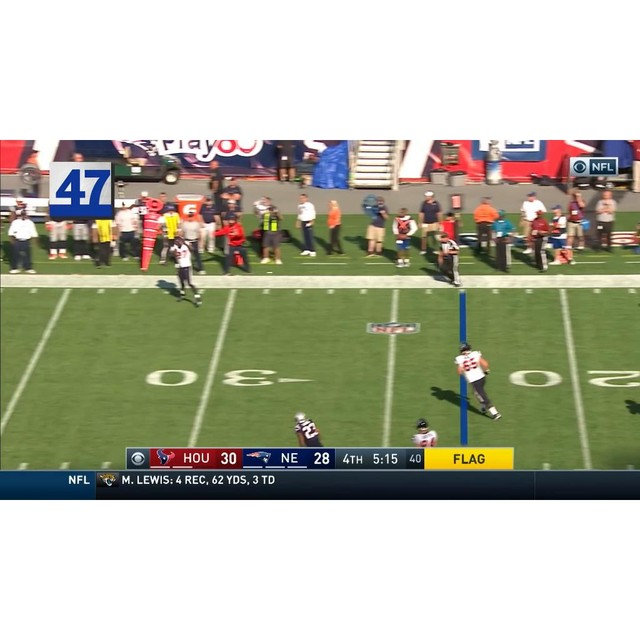american-football-player: (454, 342, 501, 420), (166, 234, 202, 307), (293, 412, 324, 448), (410, 418, 438, 447)
referee: (435, 234, 462, 288)
